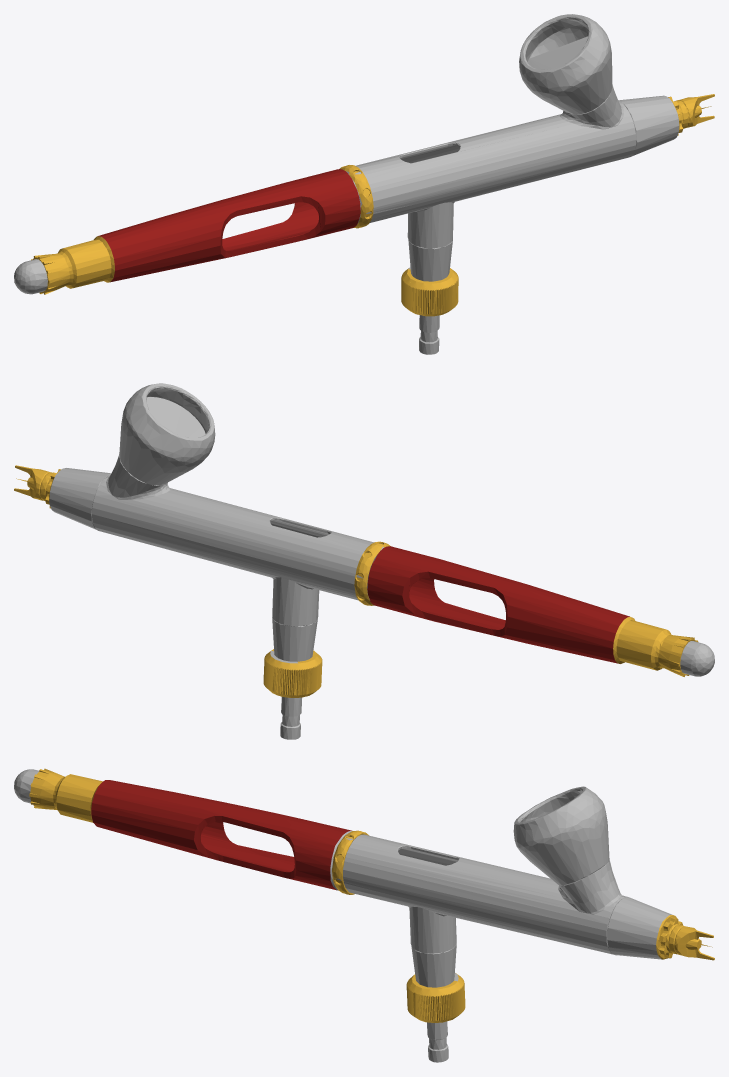
The model's file is _irspray.fbx.
The picture shows the model from 3 angles, top to bottom: view 1: azimuth 30°, elevation 25°; view 2: azimuth 150°, elevation 25°; view 3: azimuth 330°, elevation 25°; orthographic projection.
Visible parts, largest first — view 1: Body10; view 2: Body10; view 3: Body10.
Boxes of the visible parts, box(x1,y1,x2,y2) form: Body10: box(14, 14, 714, 354); Body10: box(14, 383, 714, 739); Body10: box(14, 768, 714, 1062).
Bounding box in the file's own units: 2485 × 1036 × 298.
